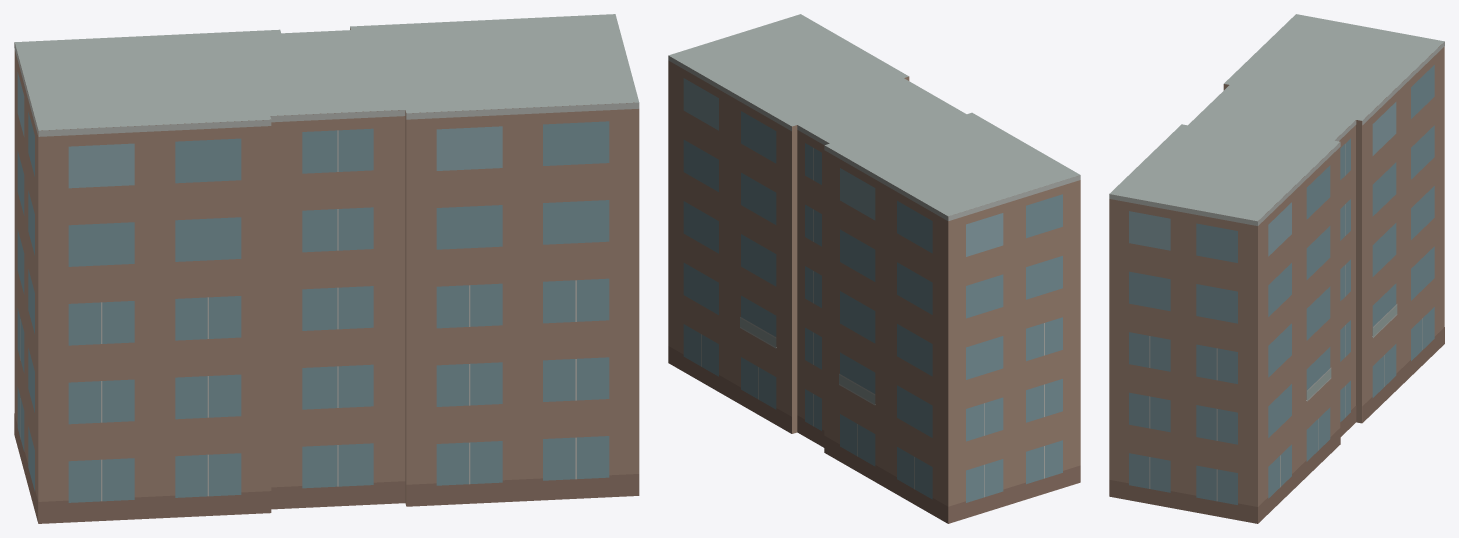
Rendered from survey-upis-32656844.glb.
3 renders of one model, left to right at view 1: azimuth 30°, elevation 25°; view 2: azimuth 150°, elevation 25°; view 3: azimuth 270°, elevation 25°, orthographic. The views are drawn at different scales.
Parts seen in each view (by area): view 1: survey-upis-32656844.tmp; view 2: survey-upis-32656844.tmp; view 3: survey-upis-32656844.tmp.
Boxes of the visible parts, x1,y1,x2,y2 form: survey-upis-32656844.tmp: (14,14,639,523); survey-upis-32656844.tmp: (668,14,1080,523); survey-upis-32656844.tmp: (1109,14,1444,523).
Size of the model in its own units: 22.42 by 15.25 by 15.34.
